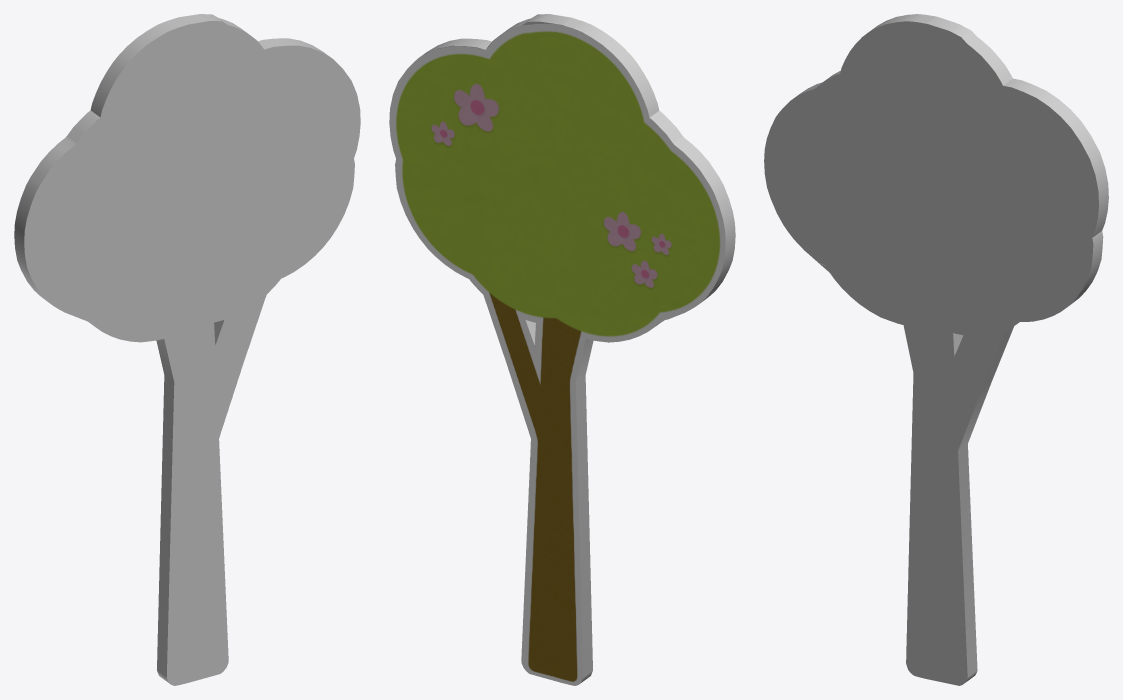
The model's file is tree2.fbx.
3 views of the same model, side by side, from view 1: azimuth 30°, elevation 25°; view 2: azimuth 150°, elevation 25°; view 3: azimuth 330°, elevation 25° (orthographic).
Parts seen in each view (by area): view 1: Vert.006; view 2: Vert.006; view 3: Vert.006.
Boxes of the visible parts, <box> form: Vert.006: <box>14,14,360,685</box>; Vert.006: <box>389,14,735,685</box>; Vert.006: <box>764,14,1108,685</box>.
Bounding box in the file's own units: 432 × 808 × 22.04.
